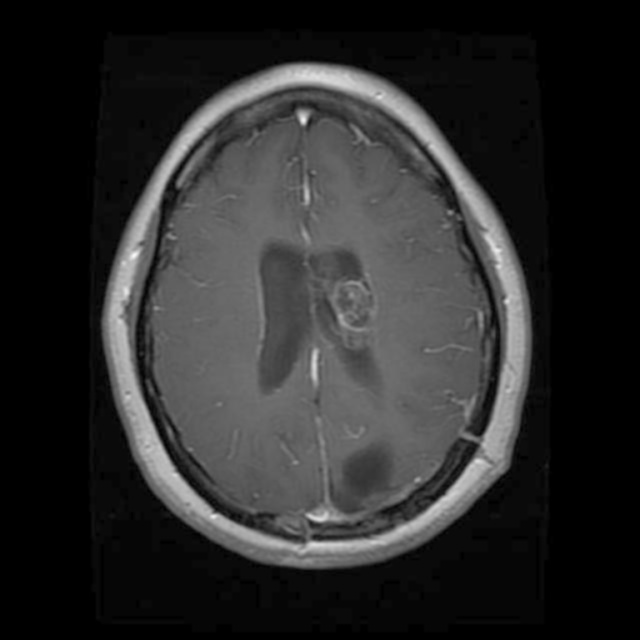pituitary tumor: (320, 266, 380, 334)
